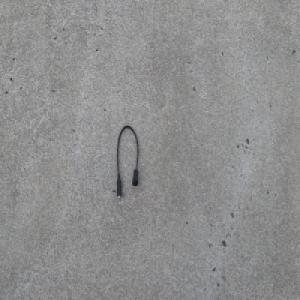Wire: (115, 124, 139, 199)
